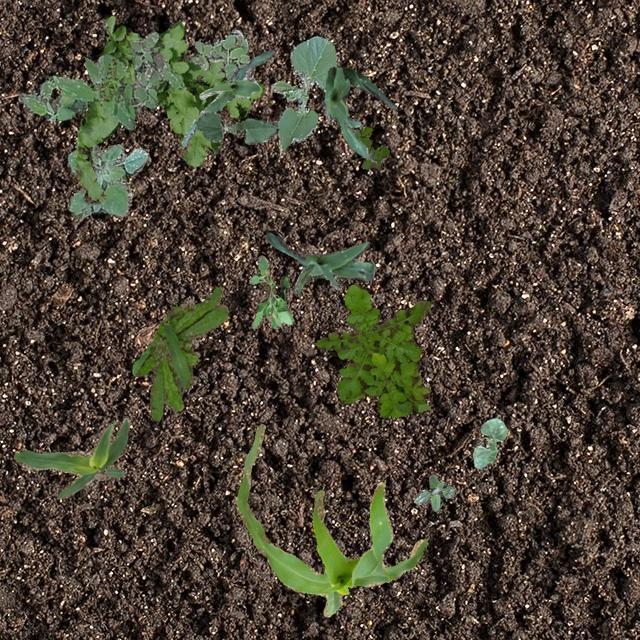crop: (236, 422, 426, 616), (12, 417, 130, 498), (180, 48, 274, 146), (270, 36, 336, 152), (322, 66, 396, 160), (264, 232, 374, 294), (192, 110, 278, 144), (472, 417, 506, 468)
weed: (74, 15, 264, 204), (18, 30, 182, 128), (316, 284, 430, 416), (132, 284, 228, 420), (66, 142, 148, 216), (248, 255, 292, 328), (190, 28, 248, 78), (412, 474, 452, 511), (356, 126, 388, 168), (96, 58, 118, 100)
